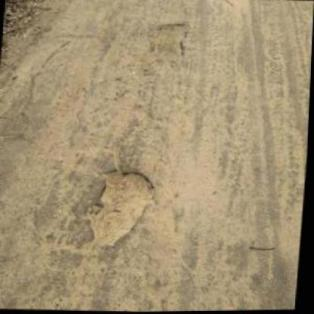Hueco: (86, 164, 160, 250), (147, 21, 191, 65)
